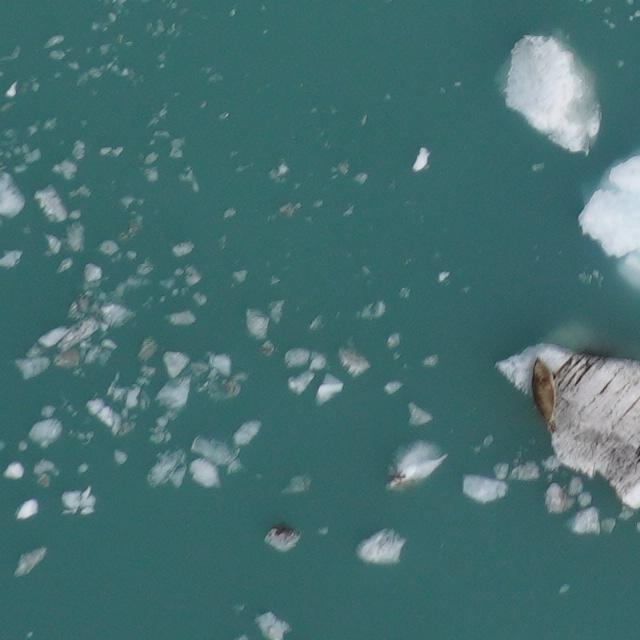seal: (534, 357, 558, 431)
